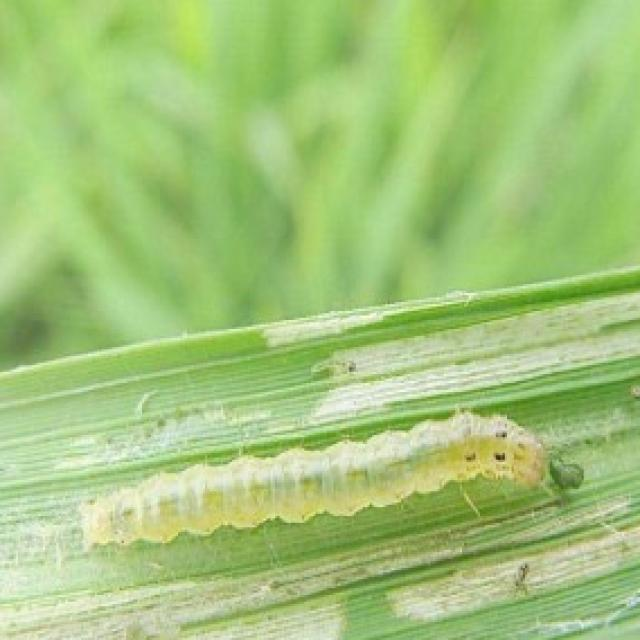rice leaf roller: (83, 412, 550, 548)
